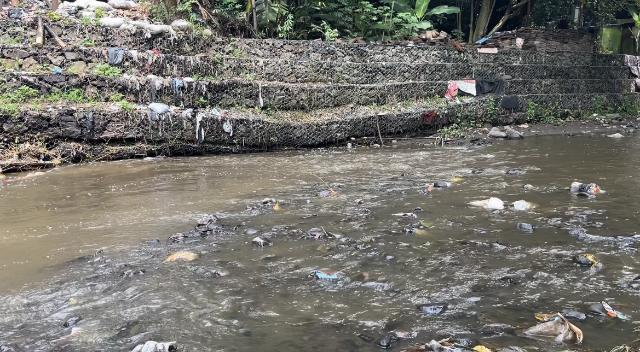Sampah Anorganik: (527, 312, 583, 346), (576, 180, 610, 198), (600, 304, 630, 321), (311, 269, 347, 283), (467, 199, 504, 211), (392, 211, 422, 220), (512, 200, 533, 211), (451, 176, 464, 183)
Sampah Organik: (415, 336, 491, 352), (158, 252, 199, 264), (407, 218, 433, 235), (324, 187, 341, 198), (360, 270, 376, 281), (577, 253, 594, 263), (164, 233, 184, 240), (270, 202, 285, 211), (426, 185, 433, 192)
